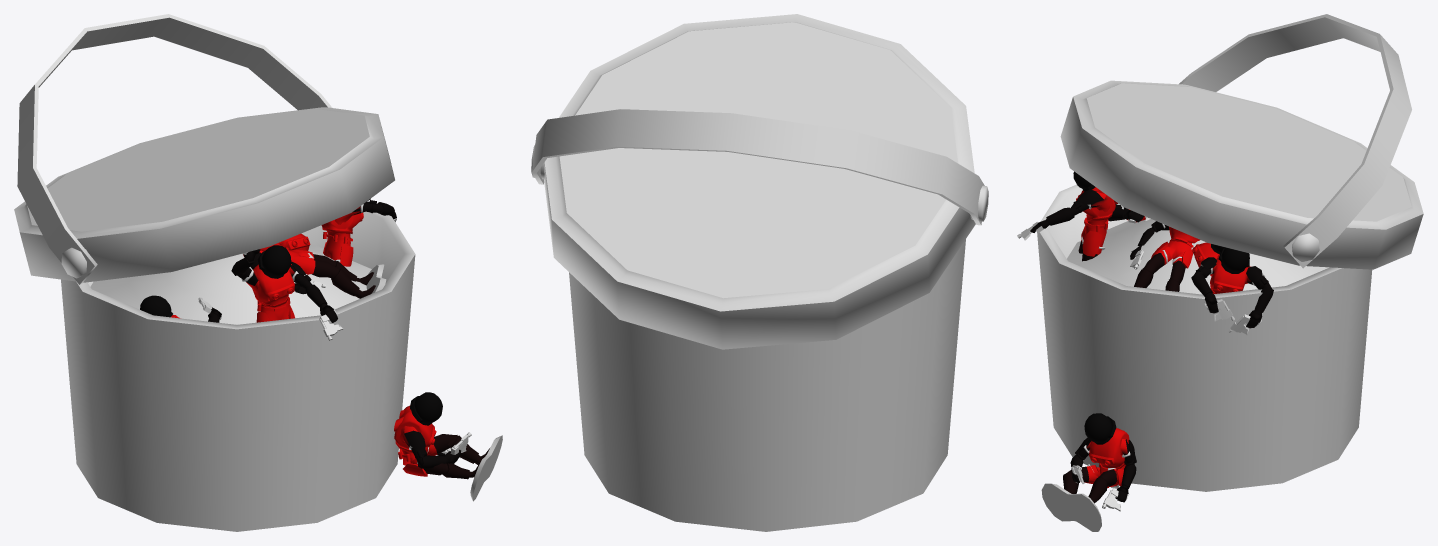
Rendered from ToySoldiersItem.fbx.
3 views of the same model, side by side, from view 1: azimuth 30°, elevation 25°; view 2: azimuth 150°, elevation 25°; view 3: azimuth 270°, elevation 25° (orthographic). The views are drawn at different scales.
Parts seen in each view (by area): view 1: Model; view 2: Model; view 3: Model.
Part boxes in pixels (x1=…): Model: x1=14, y1=14, x2=502, y2=531; Model: x1=531, y1=14, x2=988, y2=531; Model: x1=1017, y1=14, x2=1423, y2=531.
Bounding box in the file's own units: 2.57 × 2.5 × 2.4.
